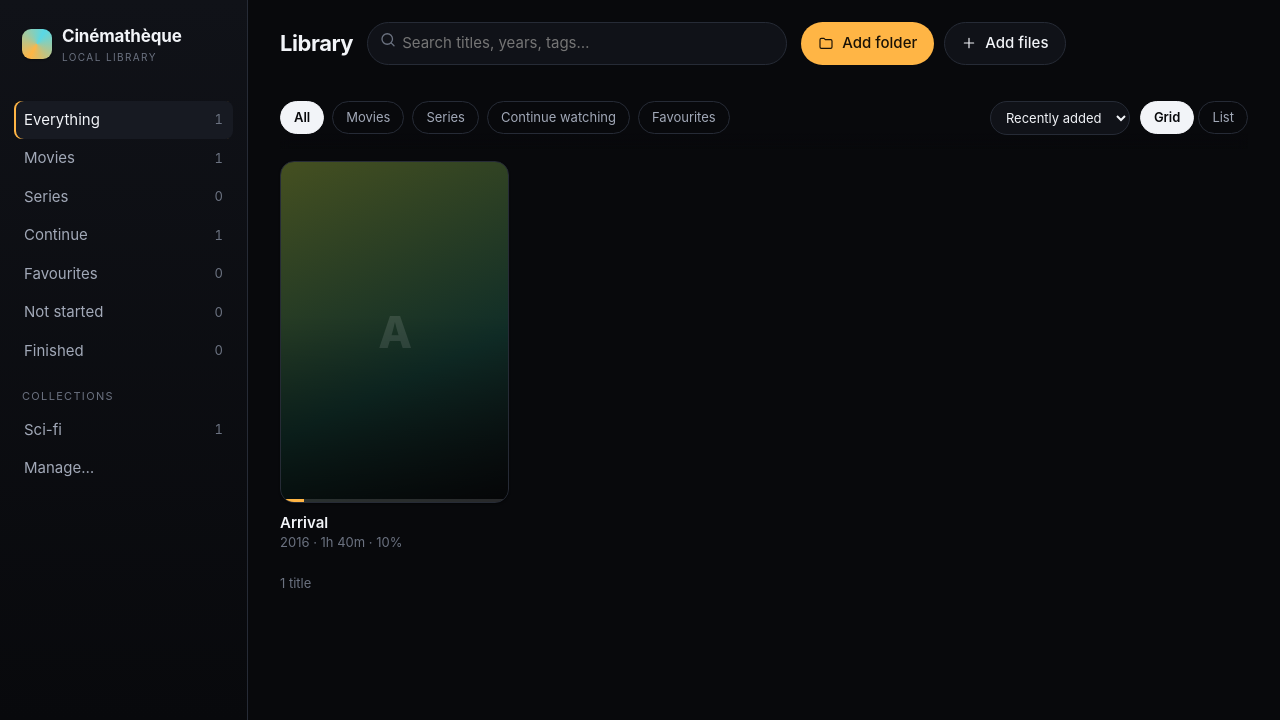
Test: app shell › filters the grid via the chips
This screenshot has width=1280, height=720.
Expected: the button named "open arrival" is shown, [280,160,508,503]
Step 1. Click the button "Series" → (446, 118), box [412,101,479,134]
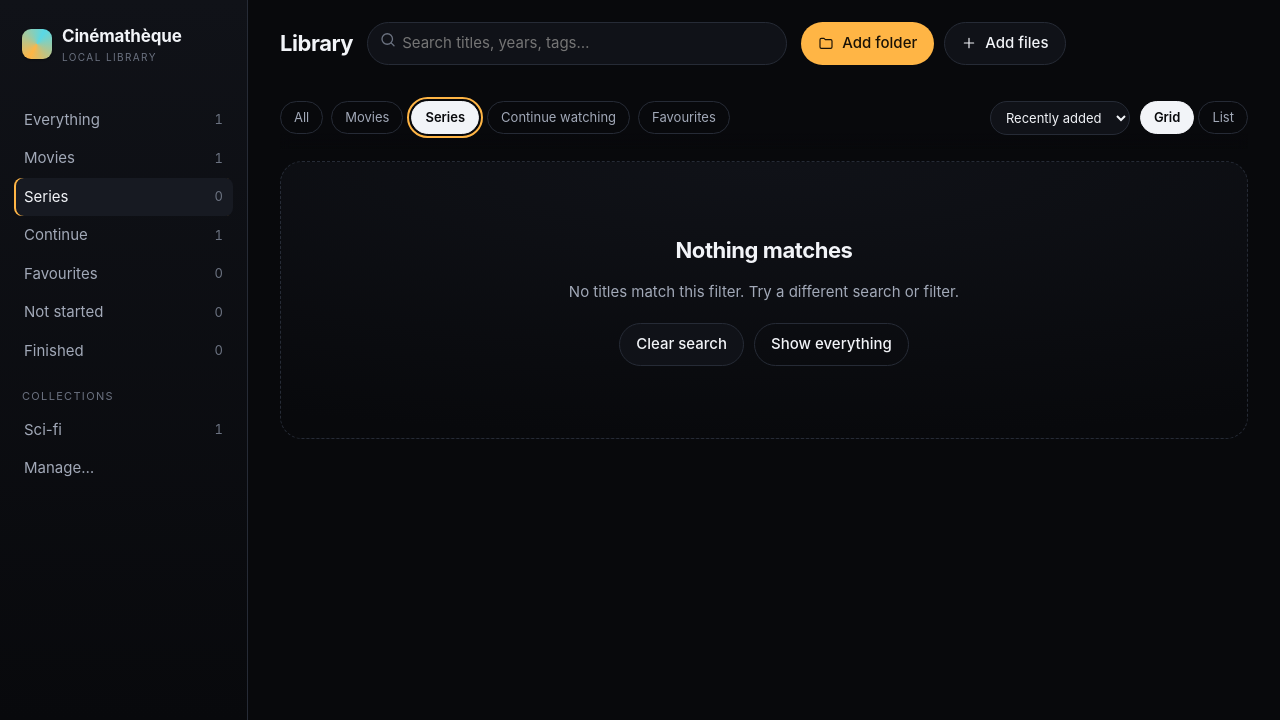
Now the heading "Nothing matches" is shown, box [676,234,852,266]
